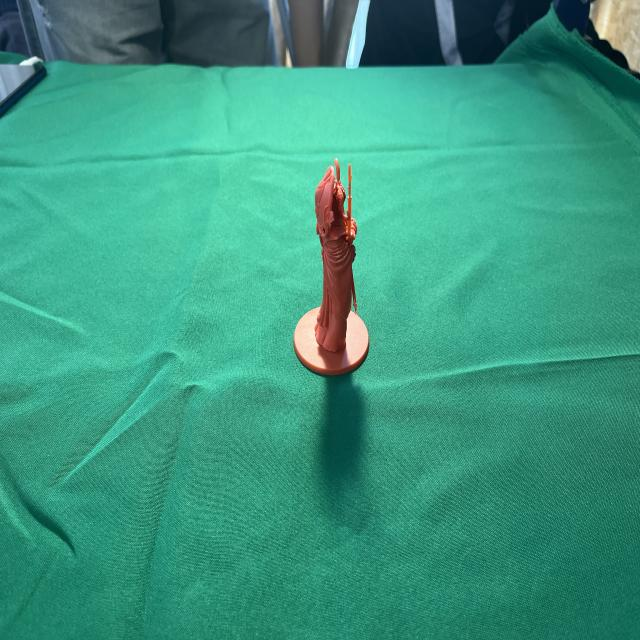amon: (290, 152, 372, 382)
